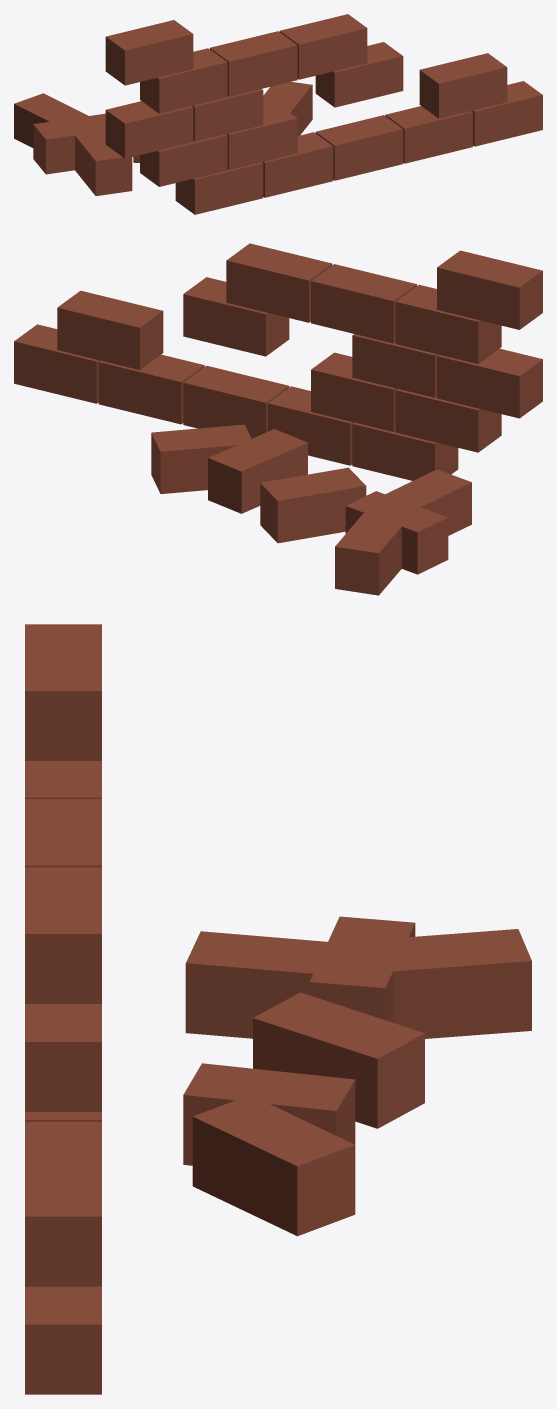
The model's file is demolition.piece.wall_brick.glb.
3 views of the same model, one above another, from view 1: azimuth 30°, elevation 25°; view 2: azimuth 150°, elevation 25°; view 3: azimuth 270°, elevation 25° (orthographic). The views are drawn at different scales.
Visible parts, largest first — view 1: main__brick; view 2: main__brick; view 3: main__brick.
Boxes of the visible parts, x1,y1,x2,y2 form: main__brick: (14,14,542,214); main__brick: (14,243,542,595); main__brick: (25,624,531,1394).
Size of the model in its own units: 2.69 by 1.11 by 1.41.
